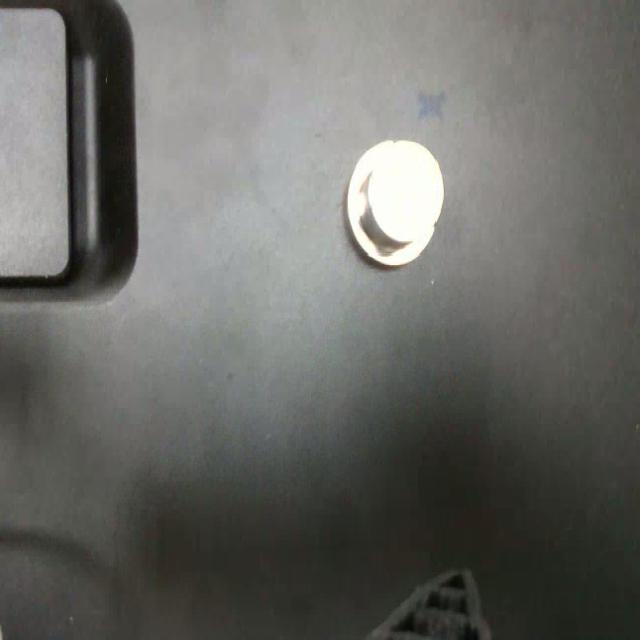sensor: (345, 136, 446, 268)
